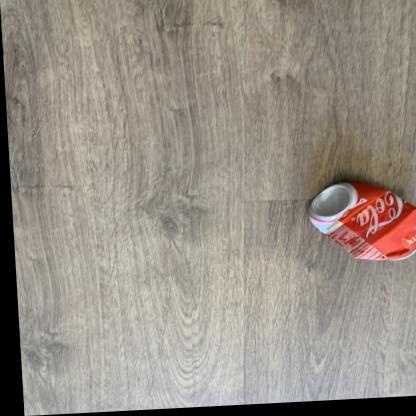trash: (308, 182, 415, 259)
